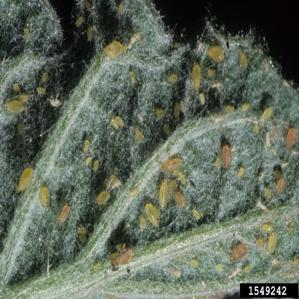Green peach aphid: (100, 244, 151, 281), (0, 79, 35, 124), (14, 161, 46, 196), (208, 136, 239, 171), (135, 196, 162, 231), (259, 219, 282, 252), (203, 41, 233, 66), (51, 202, 77, 230), (89, 183, 114, 211), (101, 37, 130, 61), (233, 49, 255, 76), (256, 101, 277, 129), (36, 184, 58, 210), (281, 123, 299, 154), (104, 109, 126, 132), (186, 63, 203, 91), (77, 131, 96, 156), (134, 129, 150, 147)
